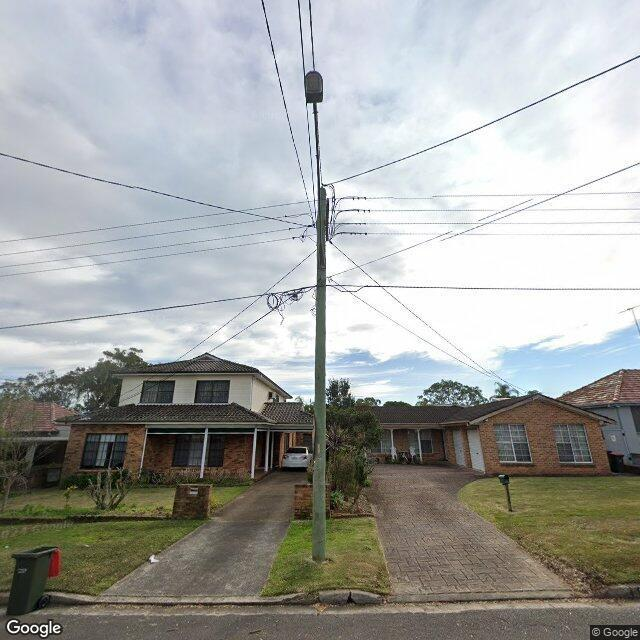crossarm: (325, 198, 330, 240)
streetlight: (304, 71, 325, 245)
timber-pole: (312, 187, 326, 560)
